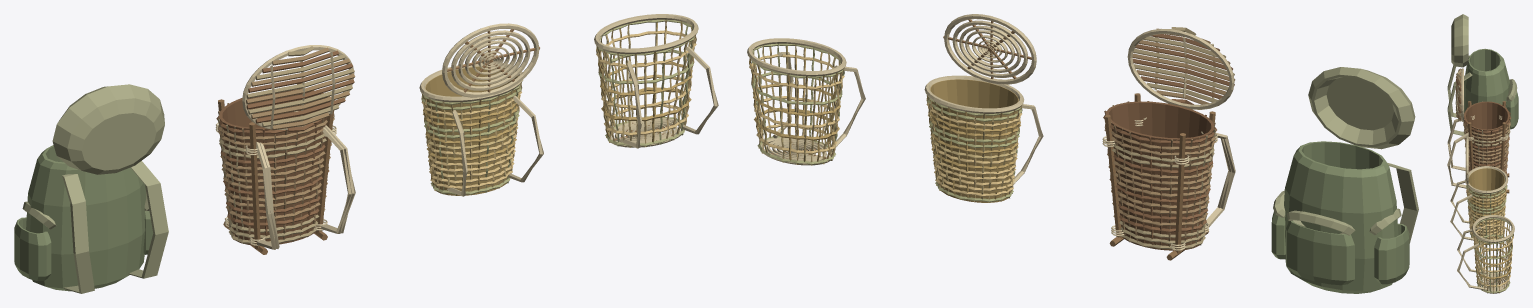
The model's file is çanta .fbx.
The picture shows the model from 3 angles, left to right: view 1: azimuth 30°, elevation 25°; view 2: azimuth 150°, elevation 25°; view 3: azimuth 270°, elevation 25°; orthographic projection. The views are drawn at different scales.
Parts seen in each view (by area): view 1: Geniş omuz askısı, Sepet içi ve tabanı.001, Bükülü lif omuz askısı.008, Örülü ağız çemberi.003, Katlanan üst kapak, Kapak bağ dokuması.002, Örülü ağız çemberi.005; view 2: Geniş omuz askısı, Sepet içi ve tabanı.001, Bükülü lif omuz askısı.008, Örülü ağız çemberi.003, Katlanan üst kapak, Kapak bağ dokuması.002, Örülü ağız çemberi.005, Cepli kumaş kapak; view 3: Sepet içi ve tabanı.001, Geniş omuz askısı, Örülü ağız çemberi.003, Bükülü lif omuz askısı.008, Katlanan üst kapak, Kapak bağ dokuması.002, Örülü ağız çemberi.005, Cepli kumaş kapak.
Part boxes in pixels (box(x1,y1,x2,y2)): Geniş omuz askısı: box(14, 145, 168, 293); Sepet içi ve tabanı.001: box(215, 83, 355, 254); Bükülü lif omuz askısı.008: box(419, 62, 543, 196); Örülü ağız çemberi.003: box(594, 14, 718, 148); Katlanan üst kapak: box(52, 84, 164, 174); Kapak bağ dokuması.002: box(242, 45, 355, 131); Örülü ağız çemberi.005: box(442, 23, 539, 97); Geniş omuz askısı: box(1271, 141, 1418, 293); Sepet içi ve tabanı.001: box(1102, 93, 1235, 260); Bükülü lif omuz askısı.008: box(924, 75, 1043, 202); Örülü ağız çemberi.003: box(747, 38, 865, 165); Katlanan üst kapak: box(1308, 67, 1415, 149); Kapak bağ dokuması.002: box(1127, 27, 1235, 109); Örülü ağız çemberi.005: box(943, 14, 1036, 84); Cepli kumaş kapak: box(1287, 210, 1355, 235); Sepet içi ve tabanı.001: box(1447, 101, 1511, 193); Geniş omuz askısı: box(1447, 48, 1518, 135); Örülü ağız çemberi.003: box(1457, 215, 1514, 293); Bükülü lif omuz askısı.008: box(1450, 166, 1508, 244); Katlanan üst kapak: box(1451, 14, 1468, 67); Kapak bağ dokuması.002: box(1455, 68, 1463, 121); Örülü ağız çemberi.005: box(1465, 138, 1468, 184); Cepli kumaş kapak: box(1506, 79, 1517, 101).
Bounding box in the file's own units: 123 × 36.49 × 20.21.
